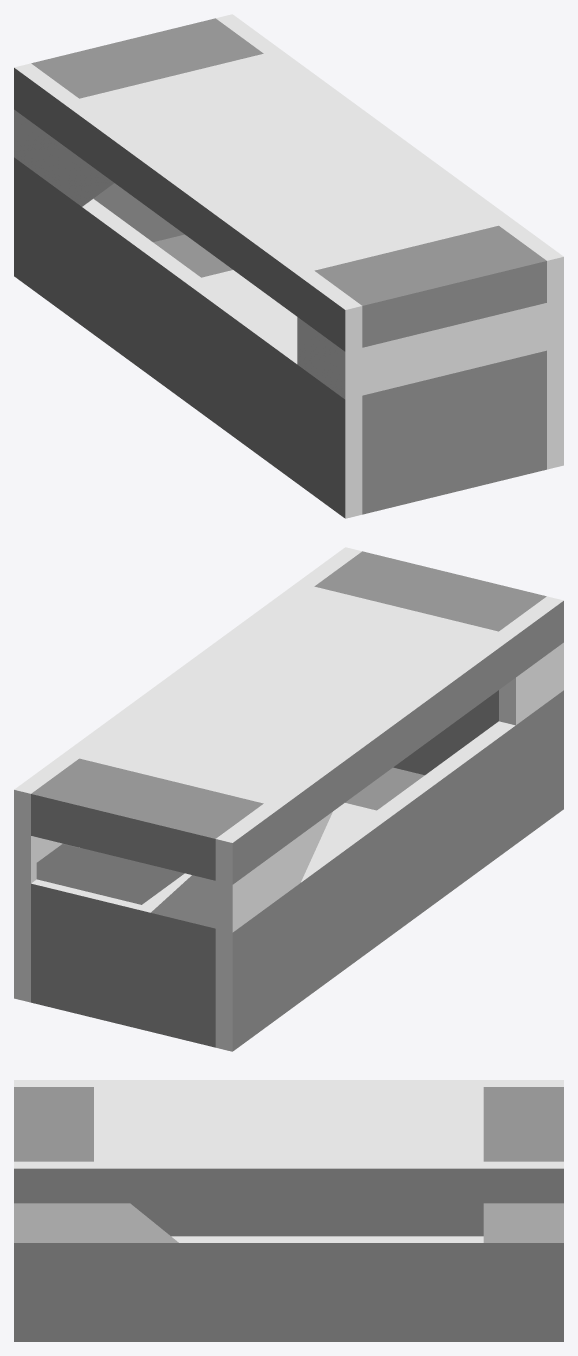
Rendered from TankA.fbx.
3 views of the same model, one above another, from view 1: azimuth 30°, elevation 25°; view 2: azimuth 150°, elevation 25°; view 3: azimuth 270°, elevation 25° (orthographic). The views are drawn at different scales.
Parts seen in each view (by area): view 1: TankA, TankATop, TankABottom, TankABack; view 2: TankABack, TankATop, TankABottom, TankA; view 3: TankABottom, TankATop, TankABack, TankA.
Boxes of the visible parts, <box> form: TankA: <box>297,221,563,518</box>; TankATop: <box>62,49,515,316</box>; TankABottom: <box>62,145,297,483</box>; TankABack: <box>14,14,280,310</box>; TankABack: <box>14,754,280,1051</box>; TankATop: <box>63,582,515,849</box>; TankABottom: <box>62,721,515,1015</box>; TankA: <box>297,547,563,843</box>; TankABottom: <box>94,1203,483,1341</box>; TankATop: <box>94,1080,483,1203</box>; TankABack: <box>483,1080,563,1341</box>; TankA: <box>14,1080,93,1341</box>.
Size of the model in its own units: 65.53 by 59.8 by 172.
1 material, 1 textured.
